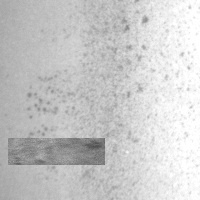pitted_surface: (25, 1, 196, 180)
rolled-in_scale: (8, 138, 105, 165)
